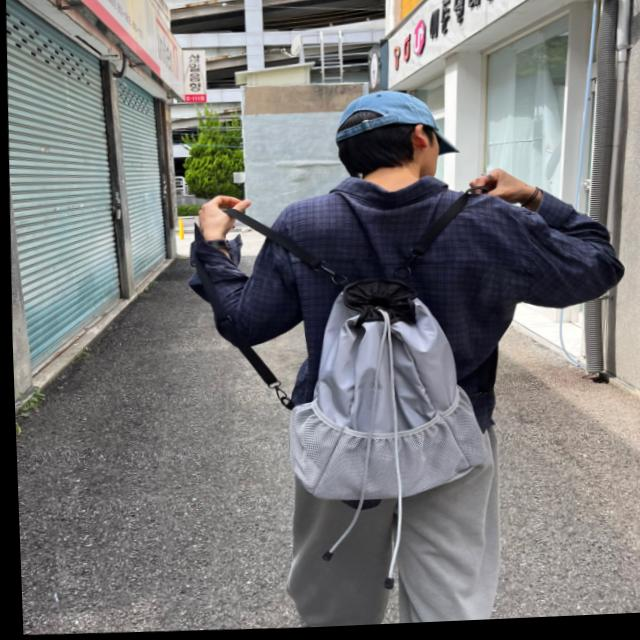backpack: (252, 263, 524, 532)
